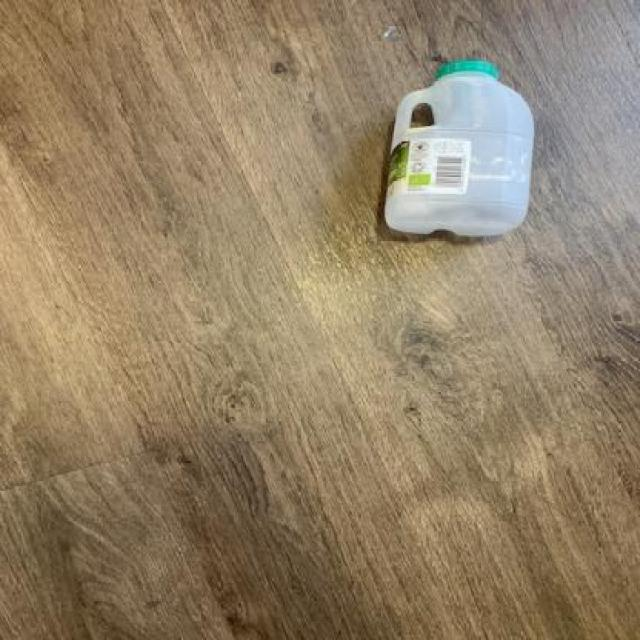trash: (380, 59, 535, 242)
